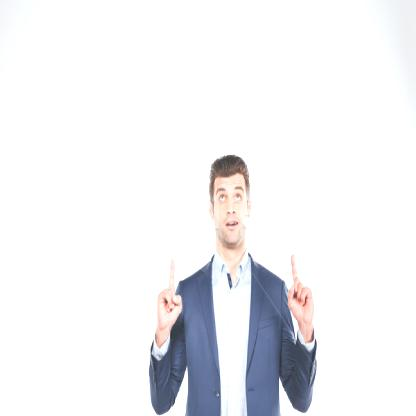Up: (273, 245, 325, 334), (154, 257, 188, 332)
